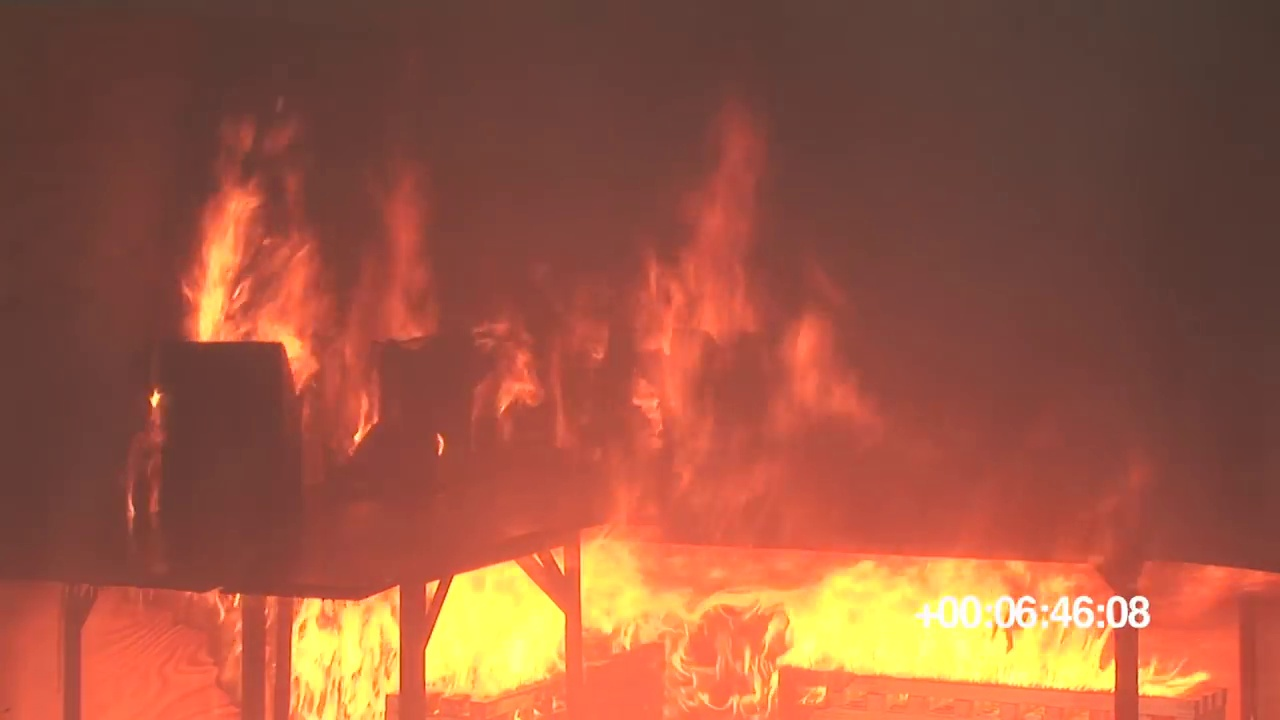fire: (291, 568, 1204, 697), (624, 189, 867, 475), (186, 148, 316, 346), (482, 317, 544, 424)
